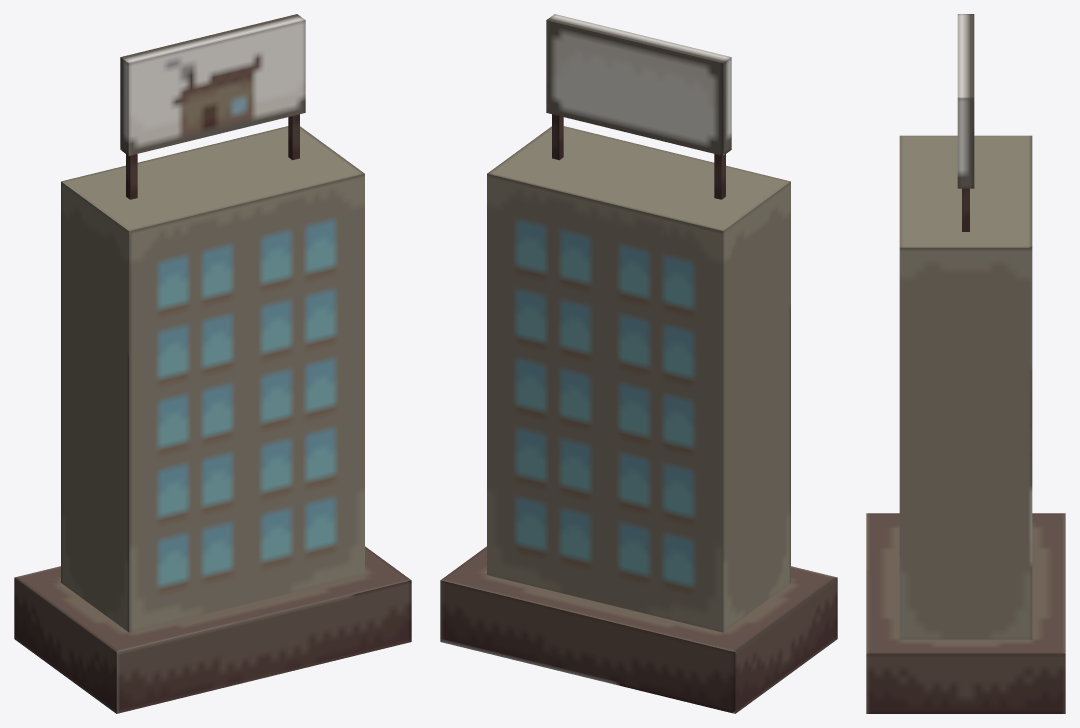
File: BuildingSign.fbx
3 views of the same model, side by side, from view 1: azimuth 30°, elevation 25°; view 2: azimuth 150°, elevation 25°; view 3: azimuth 270°, elevation 25° (orthographic). The views are drawn at different scales.
Parts seen in each view (by area): view 1: mesh_1, mesh, Sign; view 2: mesh_1, mesh, Sign; view 3: mesh_1, mesh, Sign.
Boxes of the visible parts, <box> form: mesh_1: <box>61,126,364,632</box>; mesh: <box>14,546,411,713</box>; Sign: <box>120,14,305,199</box>; mesh_1: <box>487,126,790,632</box>; mesh: <box>440,546,837,713</box>; Sign: <box>546,14,731,199</box>; mesh_1: <box>899,135,1032,639</box>; mesh: <box>866,513,1065,713</box>; Sign: <box>957,14,974,231</box>.
Bounding box in the file's own units: 250 × 488 × 150.
1 material, 1 textured.
